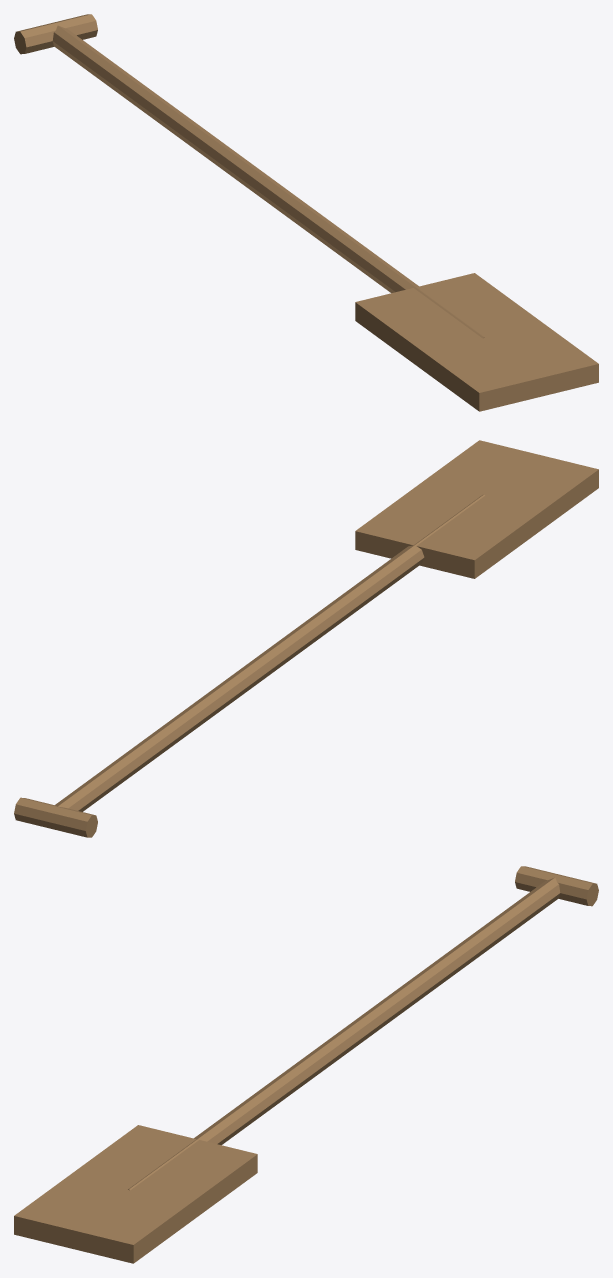
The model's file is campaign_raft_paddle.glb.
The picture shows the model from 3 angles, top to bottom: view 1: azimuth 30°, elevation 25°; view 2: azimuth 150°, elevation 25°; view 3: azimuth 330°, elevation 25°; orthographic projection.
Visible parts, largest first — view 1: campaign_raft_paddle; view 2: campaign_raft_paddle; view 3: campaign_raft_paddle.
Part boxes in pixels (box(x1,y1,x2,y2)): campaign_raft_paddle: box(14, 14, 598, 411); campaign_raft_paddle: box(14, 440, 598, 837); campaign_raft_paddle: box(14, 866, 598, 1263).
Size of the model in its own units: 0.3 by 0.054 by 2.13.
